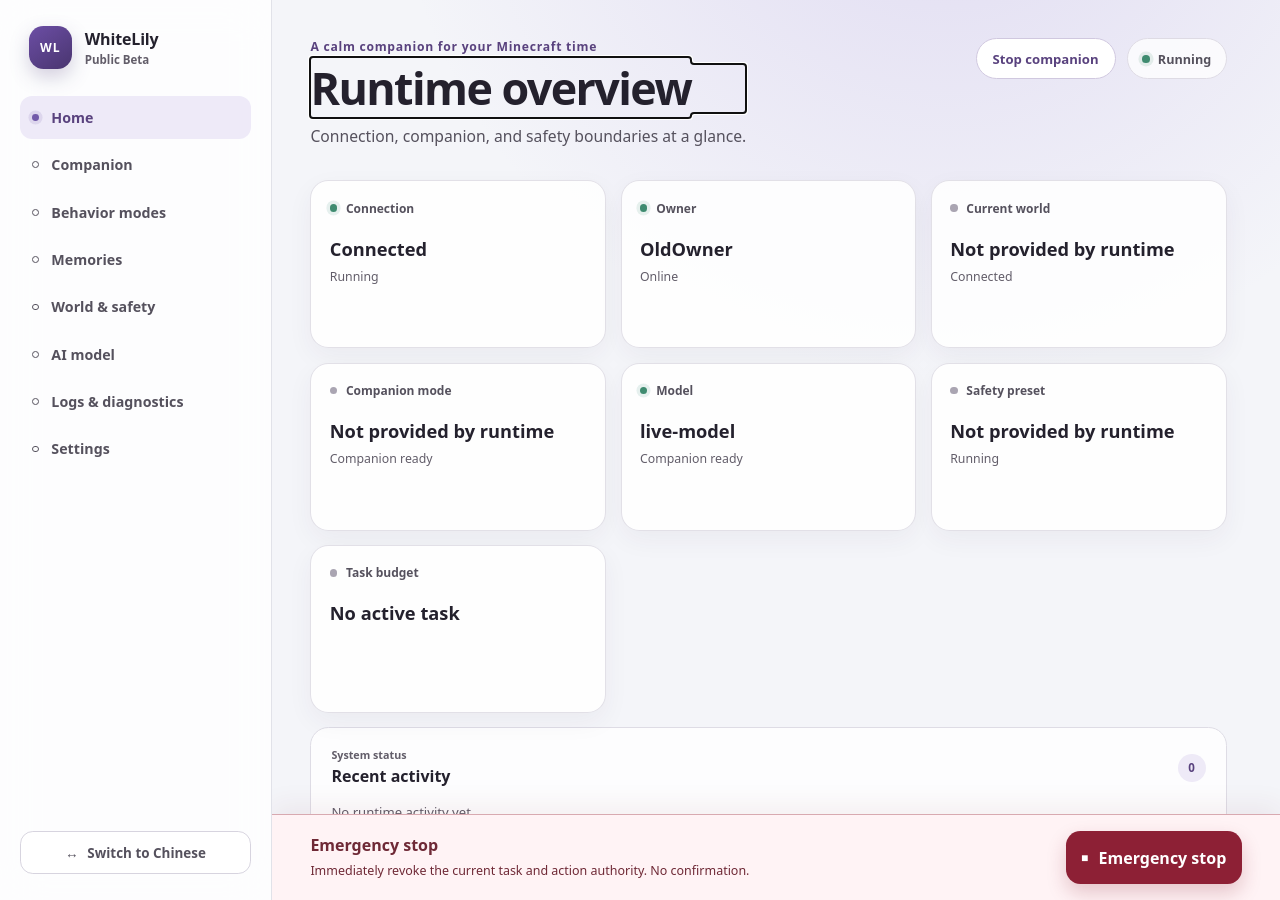
Test: Task 5 application routing › creates one owner subscription across route changes and removes it on unmount
The image size is (1280, 900).
Check: the heading "Runtime overview" is shown, box [310,64,746,113]
Click the link "Settings". click: {"x": 71, "y": 449}
box: [32,440,110,458]
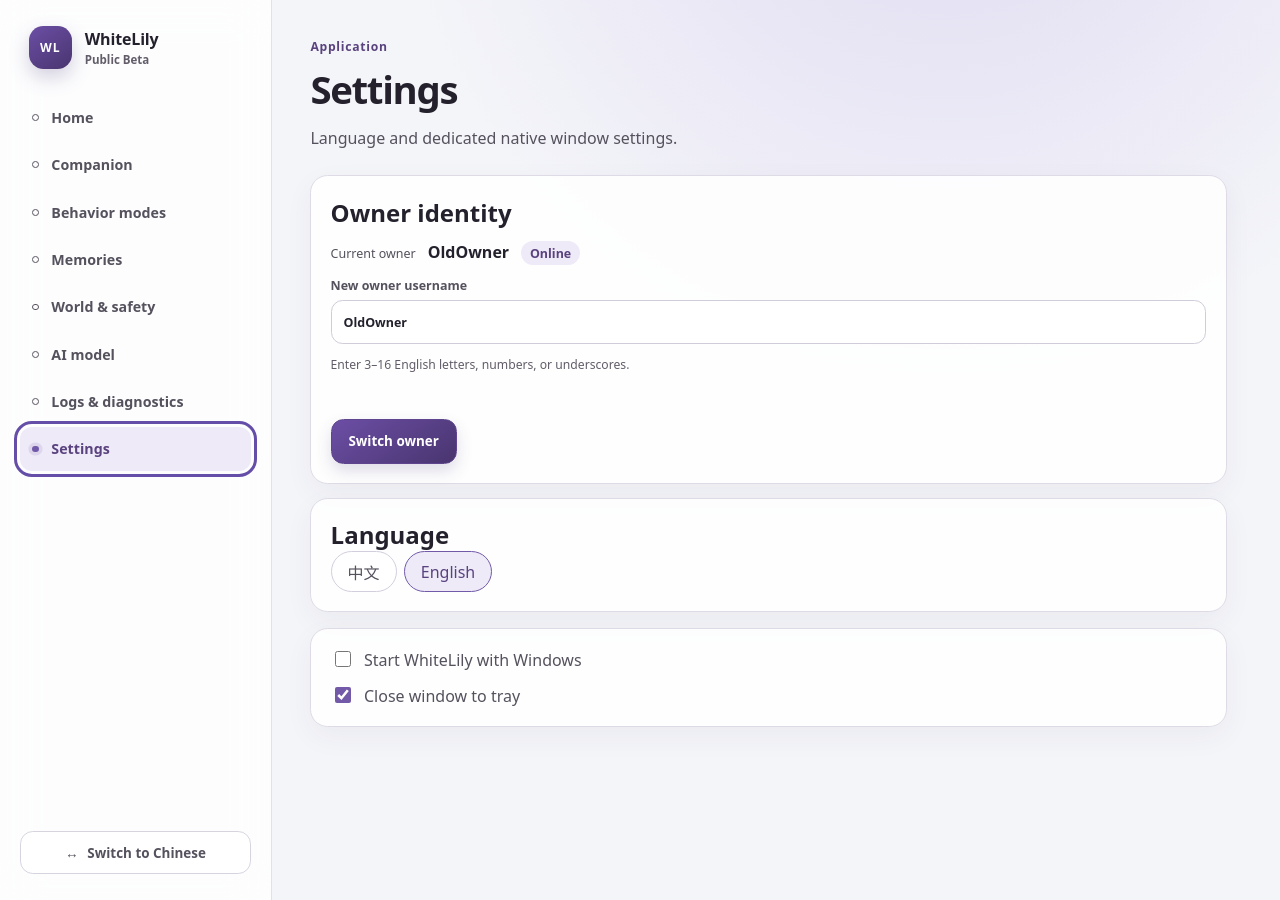
Check: the heading "Settings" is shown, box [310,63,457,115]
Click the link "Home". click: {"x": 63, "y": 118}
box: [32,108,94,127]
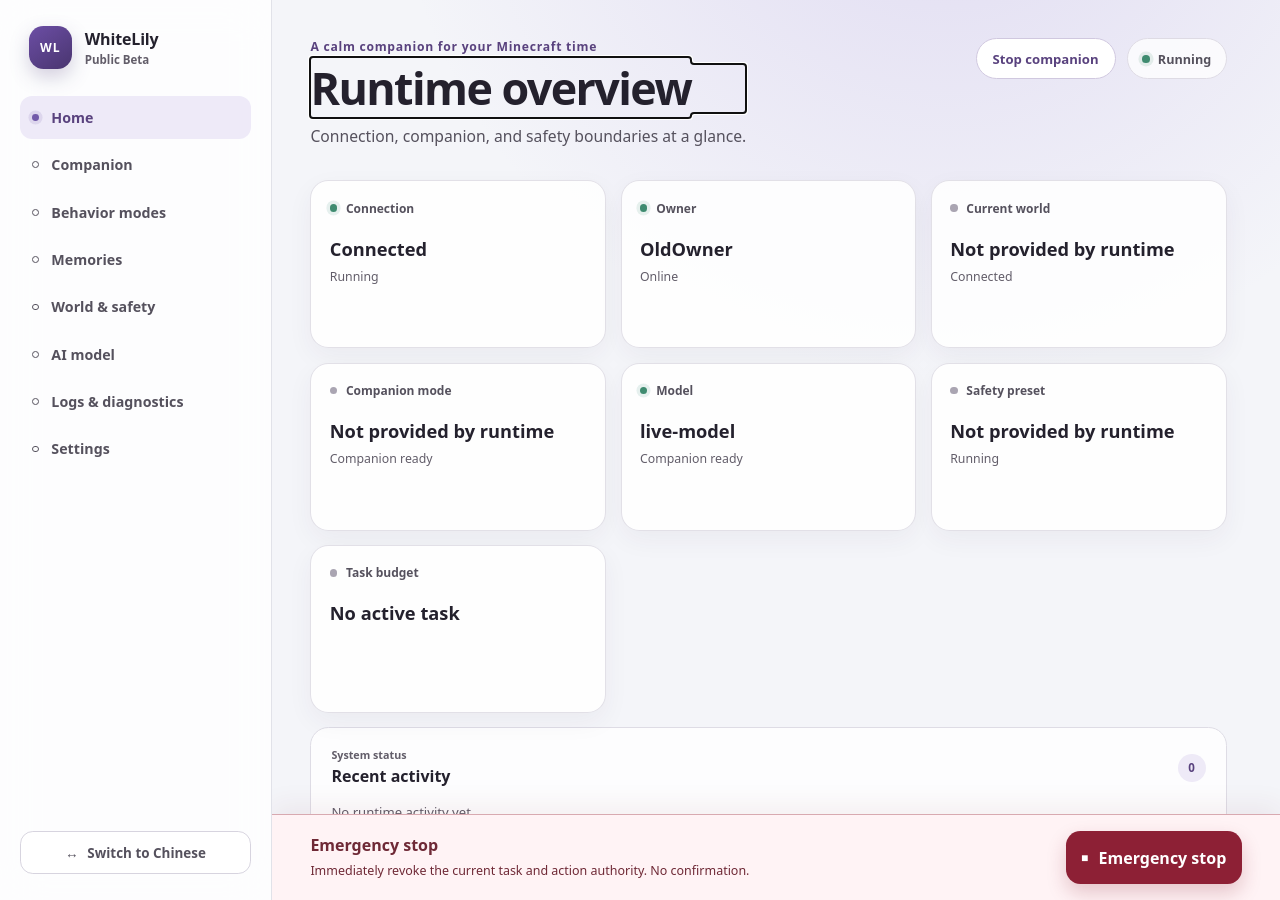
Check: the heading "Runtime overview" is shown, box [310,64,746,113]
